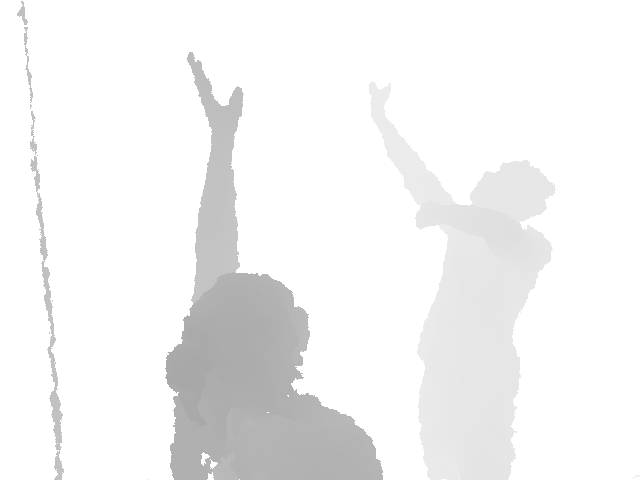hand: (185, 50, 244, 129), (367, 80, 393, 121)
head: (171, 274, 308, 402), (469, 160, 557, 221)
person: (163, 50, 384, 480), (368, 80, 556, 480)
